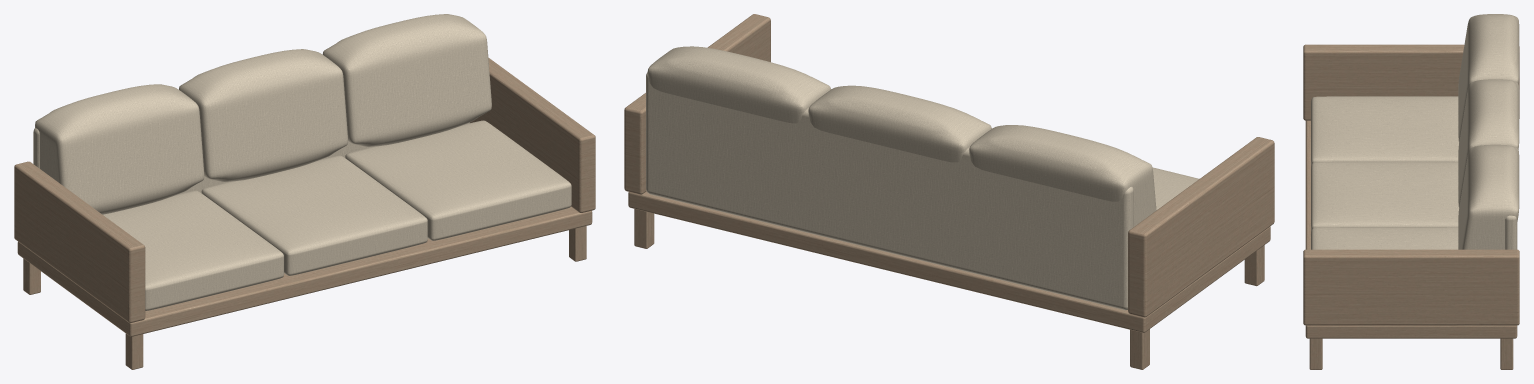
3 views of the same model, side by side, from view 1: azimuth 30°, elevation 25°; view 2: azimuth 150°, elevation 25°; view 3: azimuth 270°, elevation 25° (orthographic). The views are drawn at different scales.
Visible parts, largest first — view 1: Back cushion 3, Back cushion 2, Back cushion 1, Seat cushion 3, Seat cushion 2, Seat cushion 1, Ash seat frame, Ash arm L, Ash arm R, Back panel, Ash leg LF, Ash leg RF (+1 smaller); view 2: Back panel, Ash arm L, Ash seat frame, Back cushion 1, Back cushion 2, Back cushion 3, Ash arm R, Seat cushion 1, Ash leg RB, Ash leg LB, Ash leg LF; view 3: Ash arm R, Seat cushion 2, Seat cushion 1, Ash arm L, Back cushion 3, Back cushion 2, Back cushion 1, Ash seat frame, Seat cushion 3, Ash leg RB, Ash leg RF, Back panel.
Part boxes in pixels (left/top/right/bottom): Back cushion 3: left=322, top=14, right=491, bottom=146; Back cushion 2: left=179, top=49, right=347, bottom=181; Back cushion 1: left=35, top=84, right=204, bottom=214; Seat cushion 3: left=345, top=120, right=571, bottom=240; Seat cushion 2: left=201, top=155, right=427, bottom=275; Seat cushion 1: left=103, top=190, right=283, bottom=310; Ash seat frame: left=17, top=207, right=592, bottom=336; Ash arm L: left=14, top=161, right=145, bottom=322; Ash arm R: left=470, top=57, right=595, bottom=212; Back panel: left=33, top=122, right=469, bottom=194; Ash leg LF: left=125, top=333, right=143, bottom=369; Ash leg RF: left=569, top=226, right=586, bottom=261; Back panel: left=646, top=72, right=1133, bottom=310; Ash arm L: left=1128, top=137, right=1274, bottom=317; Ash seat frame: left=628, top=191, right=1270, bottom=332; Back cushion 1: left=969, top=125, right=1156, bottom=226; Back cushion 2: left=808, top=85, right=991, bottom=162; Back cushion 3: left=647, top=46, right=830, bottom=123; Ash arm R: left=624, top=14, right=770, bottom=194; Seat cushion 1: left=1152, top=167, right=1199, bottom=209; Ash leg RB: left=634, top=209, right=654, bottom=248; Ash leg LB: left=1130, top=329, right=1149, bottom=369; Ash leg LF: left=1244, top=245, right=1264, bottom=286; Ash arm R: left=1303, top=249, right=1519, bottom=325; Seat cushion 2: left=1311, top=161, right=1458, bottom=231; Seat cushion 1: left=1311, top=96, right=1458, bottom=165; Ash arm L: left=1303, top=44, right=1519, bottom=120; Back cushion 3: left=1458, top=144, right=1519, bottom=249; Back cushion 2: left=1458, top=79, right=1519, bottom=207; Back cushion 1: left=1458, top=14, right=1519, bottom=142; Ash seat frame: left=1305, top=120, right=1517, bottom=338; Seat cushion 3: left=1311, top=227, right=1458, bottom=249; Ash leg RB: left=1500, top=338, right=1513, bottom=369; Ash leg RF: left=1309, top=338, right=1322, bottom=369; Back panel: left=1505, top=215, right=1517, bottom=249.
Size of the model in its own units: 1.95 by 0.72 by 0.84.
2 materials, 2 textured.
